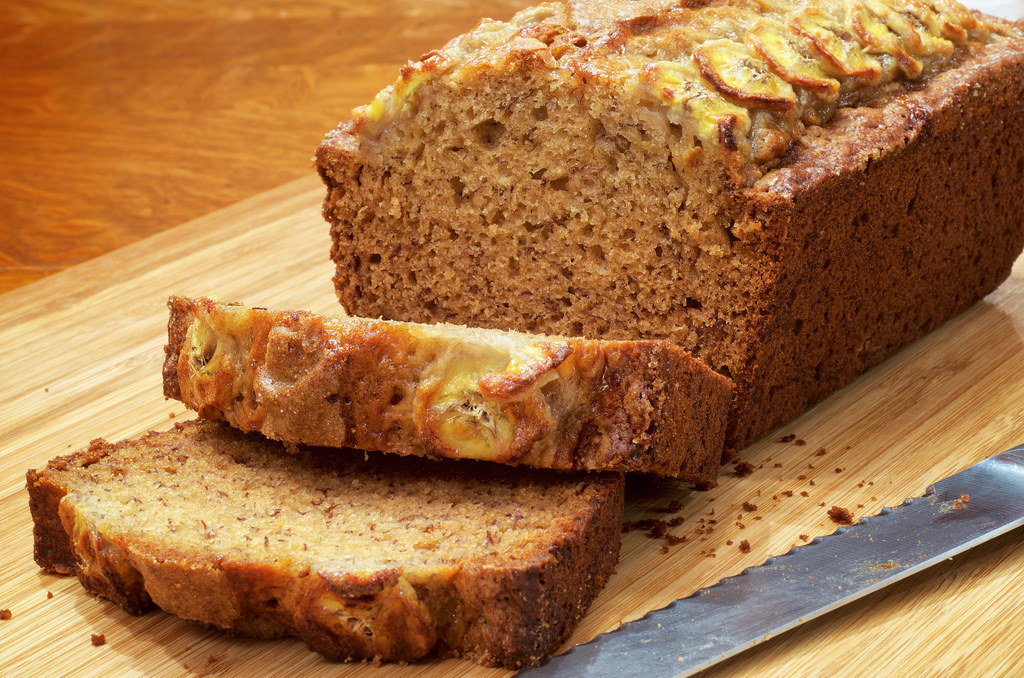slice of bread: (124, 4, 1009, 513), (28, 424, 634, 662), (131, 297, 735, 488)
